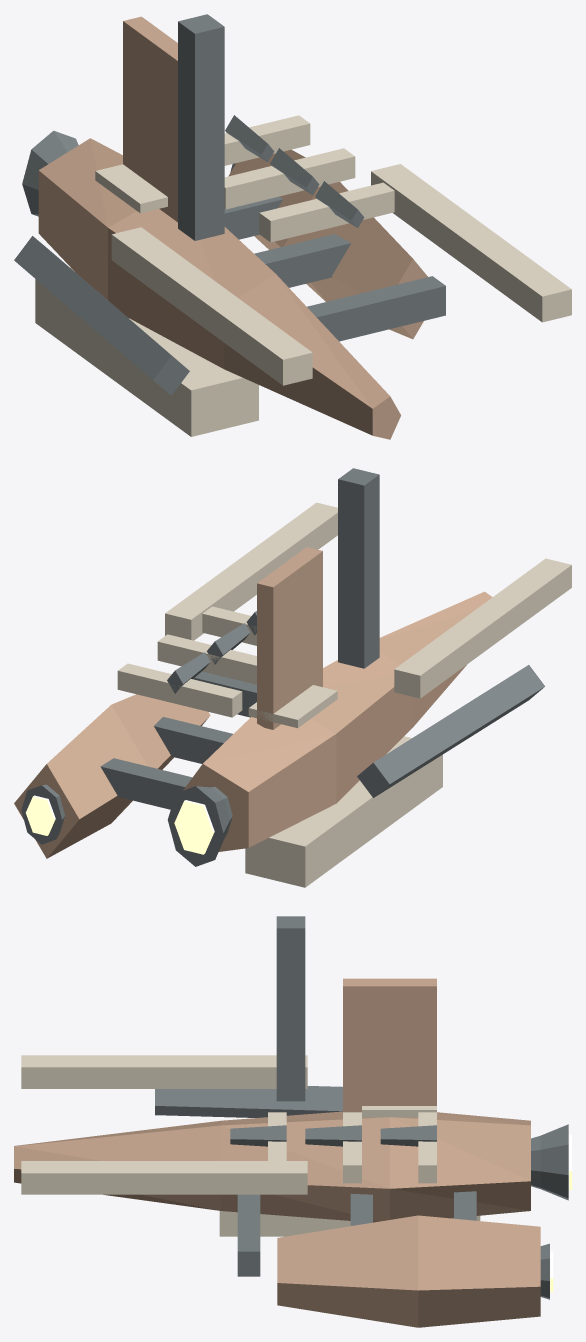
3 renders of one model, top to bottom at view 1: azimuth 30°, elevation 25°; view 2: azimuth 150°, elevation 25°; view 3: azimuth 270°, elevation 25°, orthographic. The views are drawn at different scales.
Bounding box in the file's own units: 6.14 × 5.96 × 9.35.
